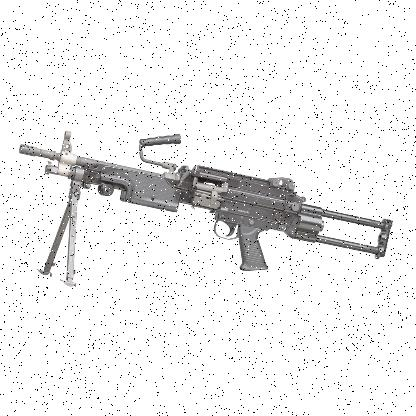gun: (18, 128, 392, 288)
